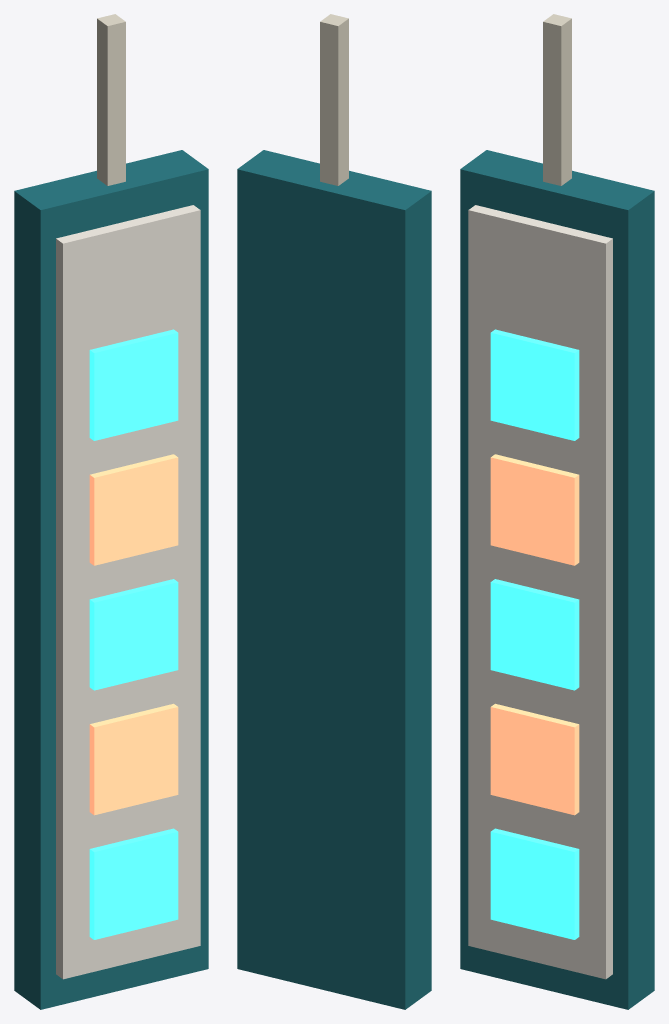
The model's file is sign_blade.glb.
The picture shows the model from 3 angles, left to right: view 1: azimuth 30°, elevation 25°; view 2: azimuth 150°, elevation 25°; view 3: azimuth 330°, elevation 25°; orthographic projection.
Parts seen in each view (by area): view 1: sign_blade; view 2: sign_blade; view 3: sign_blade.
Boxes of the visible parts, x1,y1,x2,y2 form: sign_blade: [14, 14, 208, 1009]; sign_blade: [237, 14, 431, 1009]; sign_blade: [460, 14, 654, 1009].
Bounding box in the file's own units: 1.1 × 6 × 0.43.
